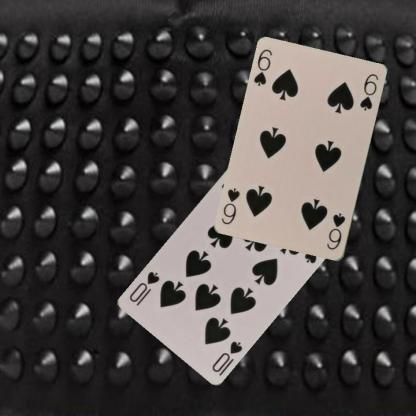10s: (209, 338, 244, 373)
6s: (324, 210, 347, 252), (251, 47, 274, 88)
